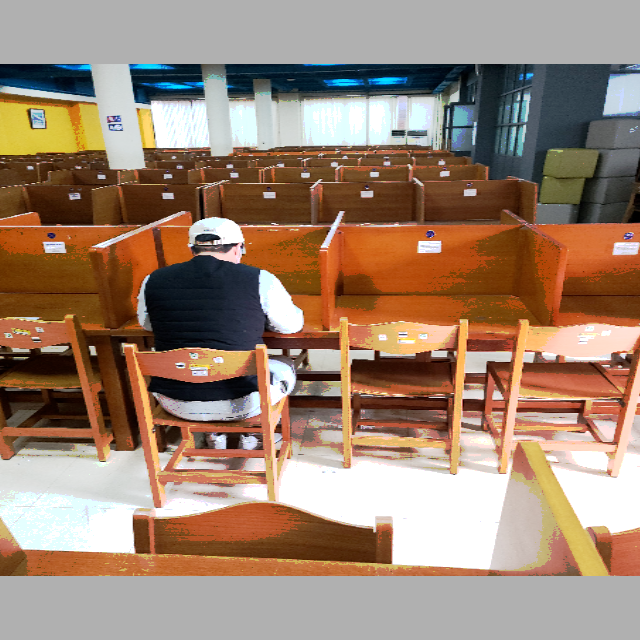empty: (326, 215, 536, 405), (544, 211, 640, 400)
full: (103, 215, 319, 425)
